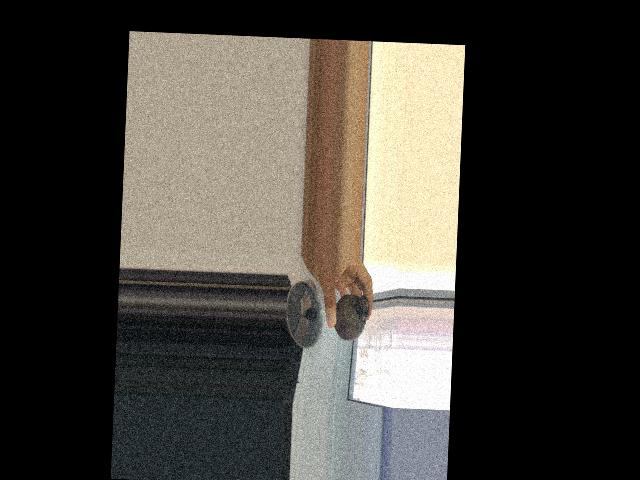beet: (333, 280, 370, 341)
